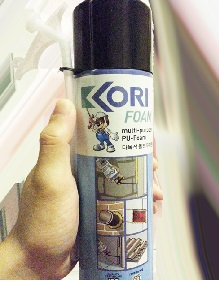Aerosol_cans: (70, 1, 155, 281)
